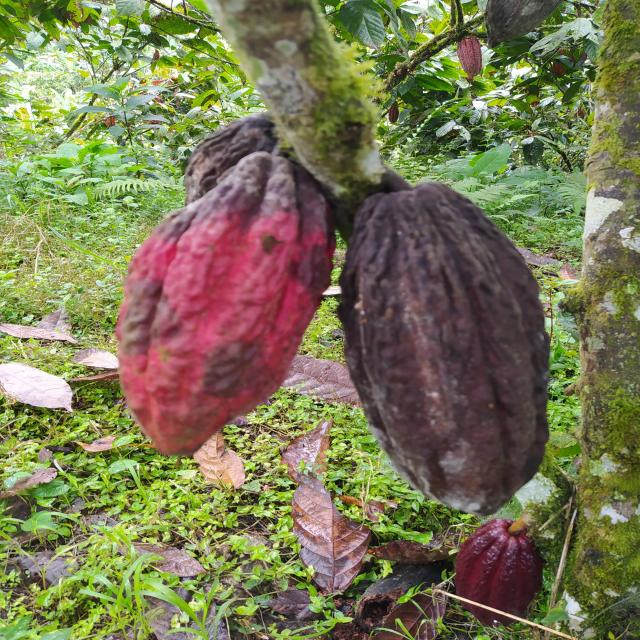Fitoftora: (336, 185, 552, 513), (114, 151, 338, 455)
Sana: (453, 518, 544, 626), (456, 35, 484, 79)
